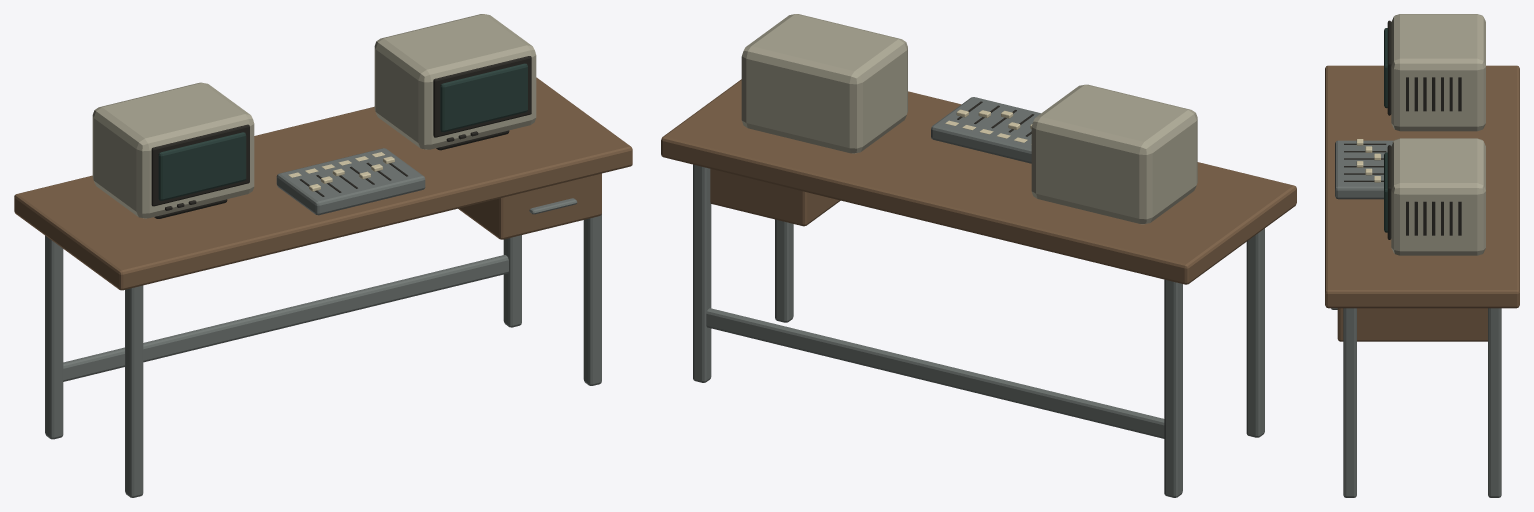
The model's file is broadcast-console.fbx.
3 renders of one model, left to right at view 1: azimuth 30°, elevation 25°; view 2: azimuth 150°, elevation 25°; view 3: azimuth 270°, elevation 25°, orthographic. The views are drawn at different scales.
Visible parts, largest first — view 1: Desktop, CRT casing.001, CRT casing, Rear brace, Mixing panel, Operator drawer, CRT glass, CRT glass.001, Desk leg, Desk leg.001, Desk leg.002, Screen recess.001 (+2 smaller); view 2: Desktop, CRT casing, CRT casing.001, Rear brace, Desk leg.001, Mixing panel, Operator drawer, Desk leg.003, Desk leg, Desk leg.002; view 3: Desktop, CRT casing.001, CRT casing, Operator drawer, Mixing panel, Desk leg.002, Desk leg.003, Screen recess, Screen recess.001, CRT glass.001, CRT glass.
Part boxes in pixels (<box>): Desktop: <box>14,77,632,290</box>; CRT casing.001: <box>374,14,536,149</box>; CRT casing: <box>92,82,254,218</box>; Rear brace: <box>63,255,508,381</box>; Mixing panel: <box>276,148,425,215</box>; Operator drawer: <box>458,173,601,239</box>; CRT glass: <box>158,132,246,200</box>; CRT glass.001: <box>440,63,527,132</box>; Desk leg: <box>125,285,143,497</box>; Desk leg.001: <box>45,235,63,439</box>; Desk leg.002: <box>583,214,601,385</box>; Screen recess.001: <box>433,56,531,137</box>; Desktop: <box>661,79,1296,284</box>; CRT casing: <box>1031,84,1197,224</box>; CRT casing.001: <box>741,14,907,153</box>; Rear brace: <box>706,308,1164,438</box>; Desk leg.001: <box>1164,279,1182,497</box>; Mixing panel: <box>931,97,1040,163</box>; Operator drawer: <box>710,169,840,226</box>; Desk leg.003: <box>693,164,711,382</box>; Desk leg: <box>1246,228,1264,437</box>; Desk leg.002: <box>775,219,793,322</box>; Desktop: <box>1325,65,1519,308</box>; CRT casing.001: <box>1391,138,1485,255</box>; CRT casing: <box>1391,14,1485,131</box>; Operator drawer: <box>1337,308,1487,341</box>; Mixing panel: <box>1335,140,1393,199</box>; Desk leg.002: <box>1343,308,1356,497</box>; Desk leg.003: <box>1488,308,1501,497</box>; Screen recess: <box>1387,20,1391,115</box>; Screen recess.001: <box>1387,145,1391,239</box>; CRT glass.001: <box>1384,152,1387,232</box>; CRT glass: <box>1384,28,1387,108</box>.
Bounding box in the file's own units: 2.15 × 1.31 × 0.78.
